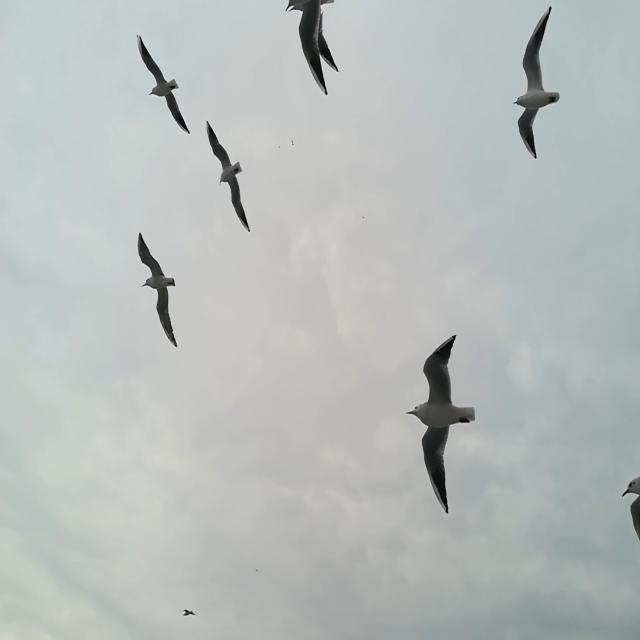bird: (404, 336, 476, 514), (514, 6, 562, 157), (284, 2, 344, 96), (135, 34, 190, 134), (205, 120, 250, 233), (138, 231, 179, 348), (620, 475, 640, 546), (182, 606, 197, 619)
